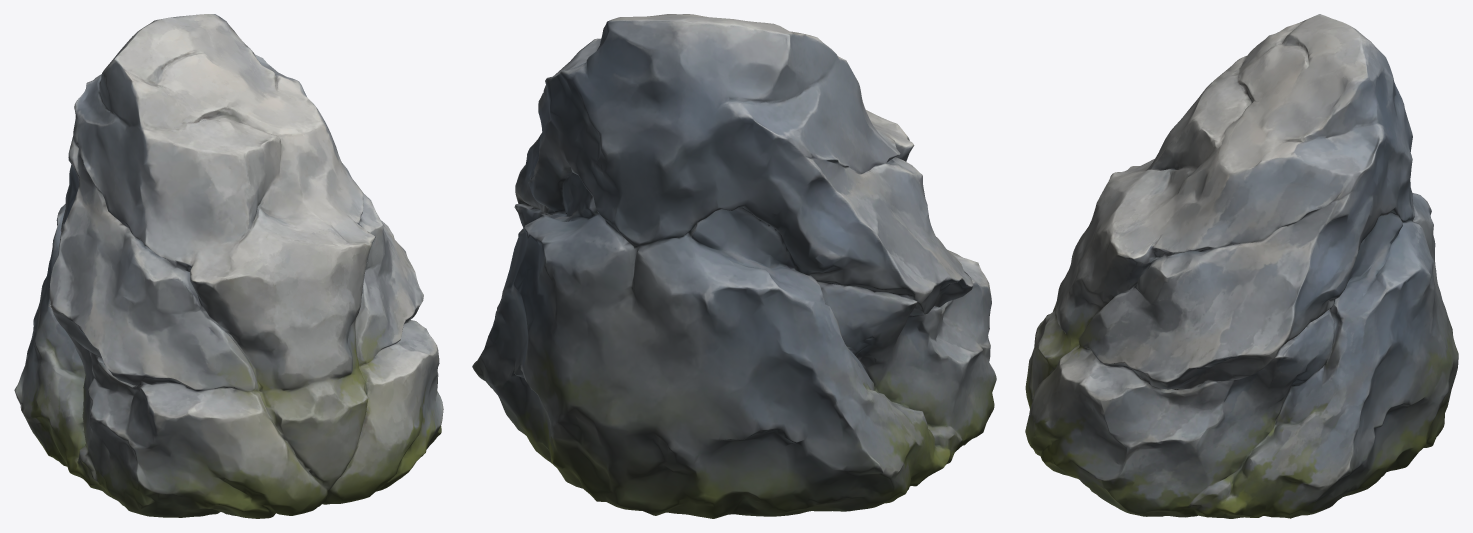
3 renders of one model, left to right at view 1: azimuth 30°, elevation 25°; view 2: azimuth 150°, elevation 25°; view 3: azimuth 270°, elevation 25°, orthographic. The views are drawn at different scales.
Parts seen in each view (by area): view 1: tripo_node_129cb5ff-a38f-4294-a1ce-cb873966e937; view 2: tripo_node_129cb5ff-a38f-4294-a1ce-cb873966e937; view 3: tripo_node_129cb5ff-a38f-4294-a1ce-cb873966e937.
Boxes of the visible parts, x1,y1,x2,y2 form: tripo_node_129cb5ff-a38f-4294-a1ce-cb873966e937: (14,14,443,518); tripo_node_129cb5ff-a38f-4294-a1ce-cb873966e937: (472,14,996,518); tripo_node_129cb5ff-a38f-4294-a1ce-cb873966e937: (1025,14,1458,518).
Bounding box in the file's own units: 0.9139 × 1 × 0.9786.
Materials: 1 (1 with a texture image).
